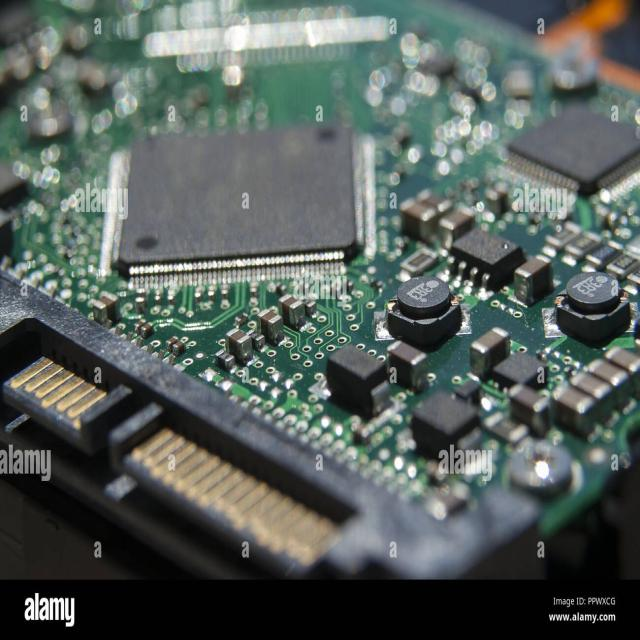pcb: (1, 0, 638, 583), (447, 227, 524, 290), (512, 254, 553, 305)
